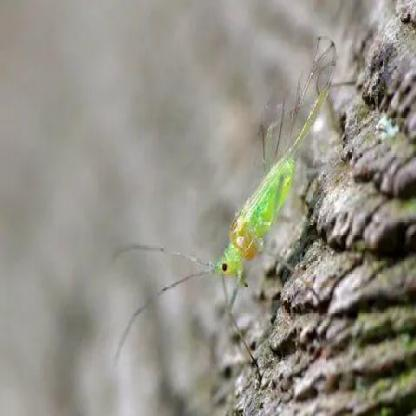aphid: (114, 31, 342, 356)
